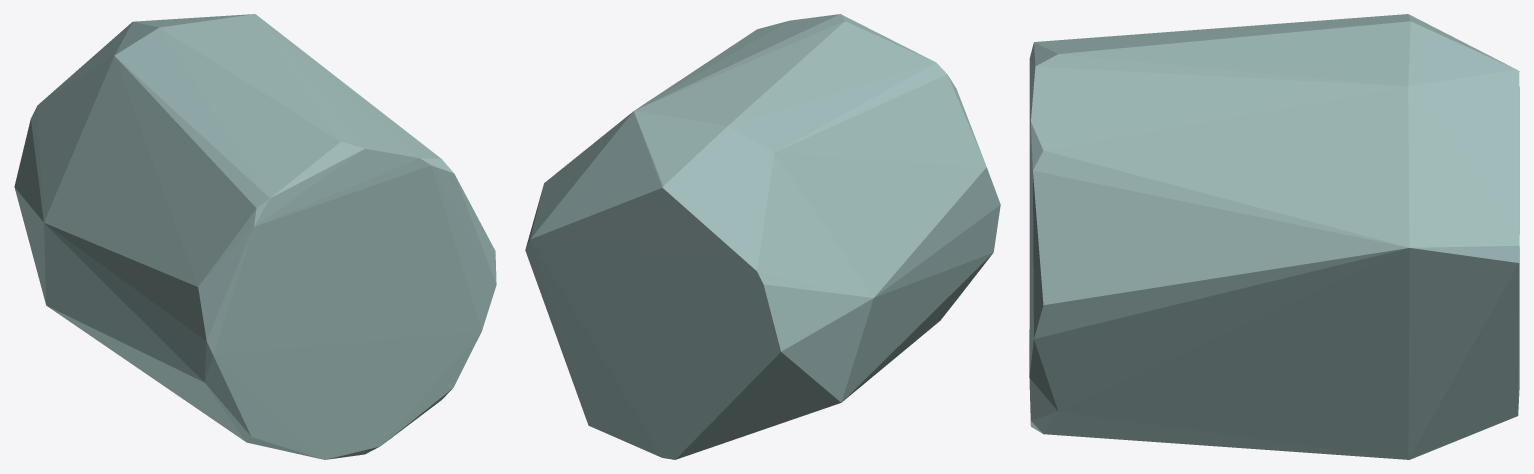
File: airSystem_air_filter_a01.glb
3 renders of one model, left to right at view 1: azimuth 30°, elevation 25°; view 2: azimuth 150°, elevation 25°; view 3: azimuth 270°, elevation 25°, orthographic. The views are drawn at different scales.
Visible parts, largest first — view 1: geometry_0; view 2: geometry_0; view 3: geometry_0.
Part boxes in pixels (x1=…): geometry_0: x1=14, y1=14, x2=496, y2=459; geometry_0: x1=525, y1=14, x2=1000, y2=459; geometry_0: x1=1029, y1=14, x2=1519, y2=459.
Size of the model in its own units: 0.4196 by 0.4246 by 0.48.
